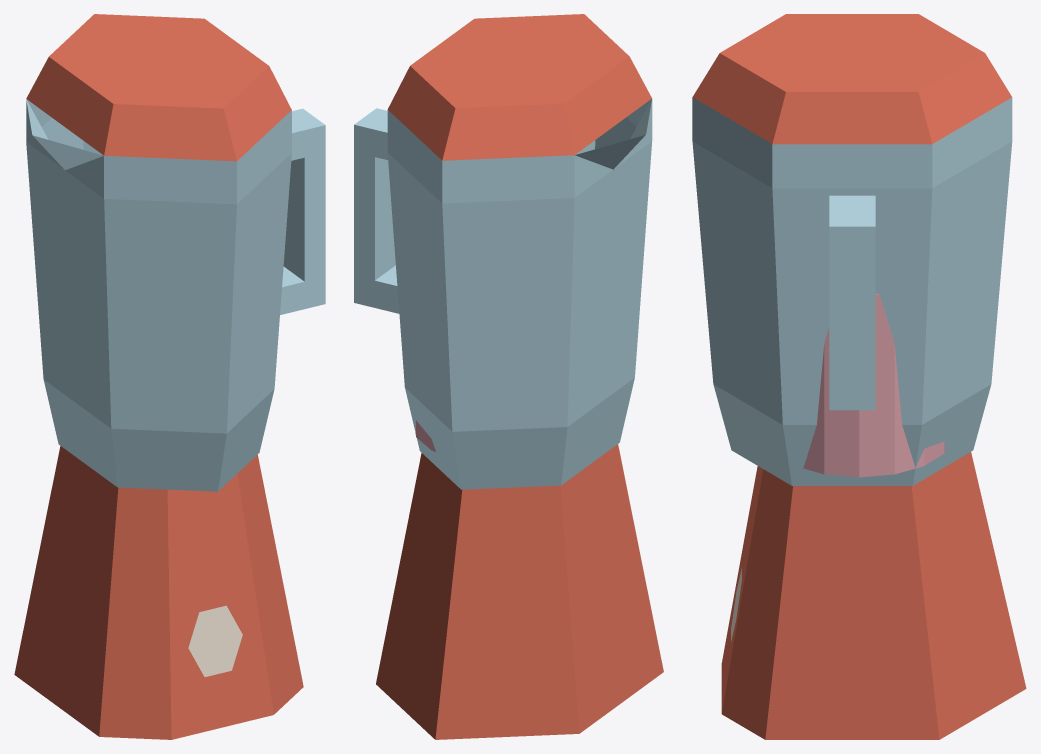
The model's file is blender_b.glb.
3 renders of one model, left to right at view 1: azimuth 30°, elevation 25°; view 2: azimuth 150°, elevation 25°; view 3: azimuth 270°, elevation 25°, orthographic. The views are drawn at different scales.
Parts seen in each view (by area): view 1: body; view 2: body; view 3: body.
Part boxes in pixels (x1=…): body: x1=14, y1=14, x2=325, y2=739; body: x1=354, y1=14, x2=663, y2=739; body: x1=692, y1=14, x2=1026, y2=739.
Bounding box in the file's own units: 0.2 × 0.42 × 0.2.
